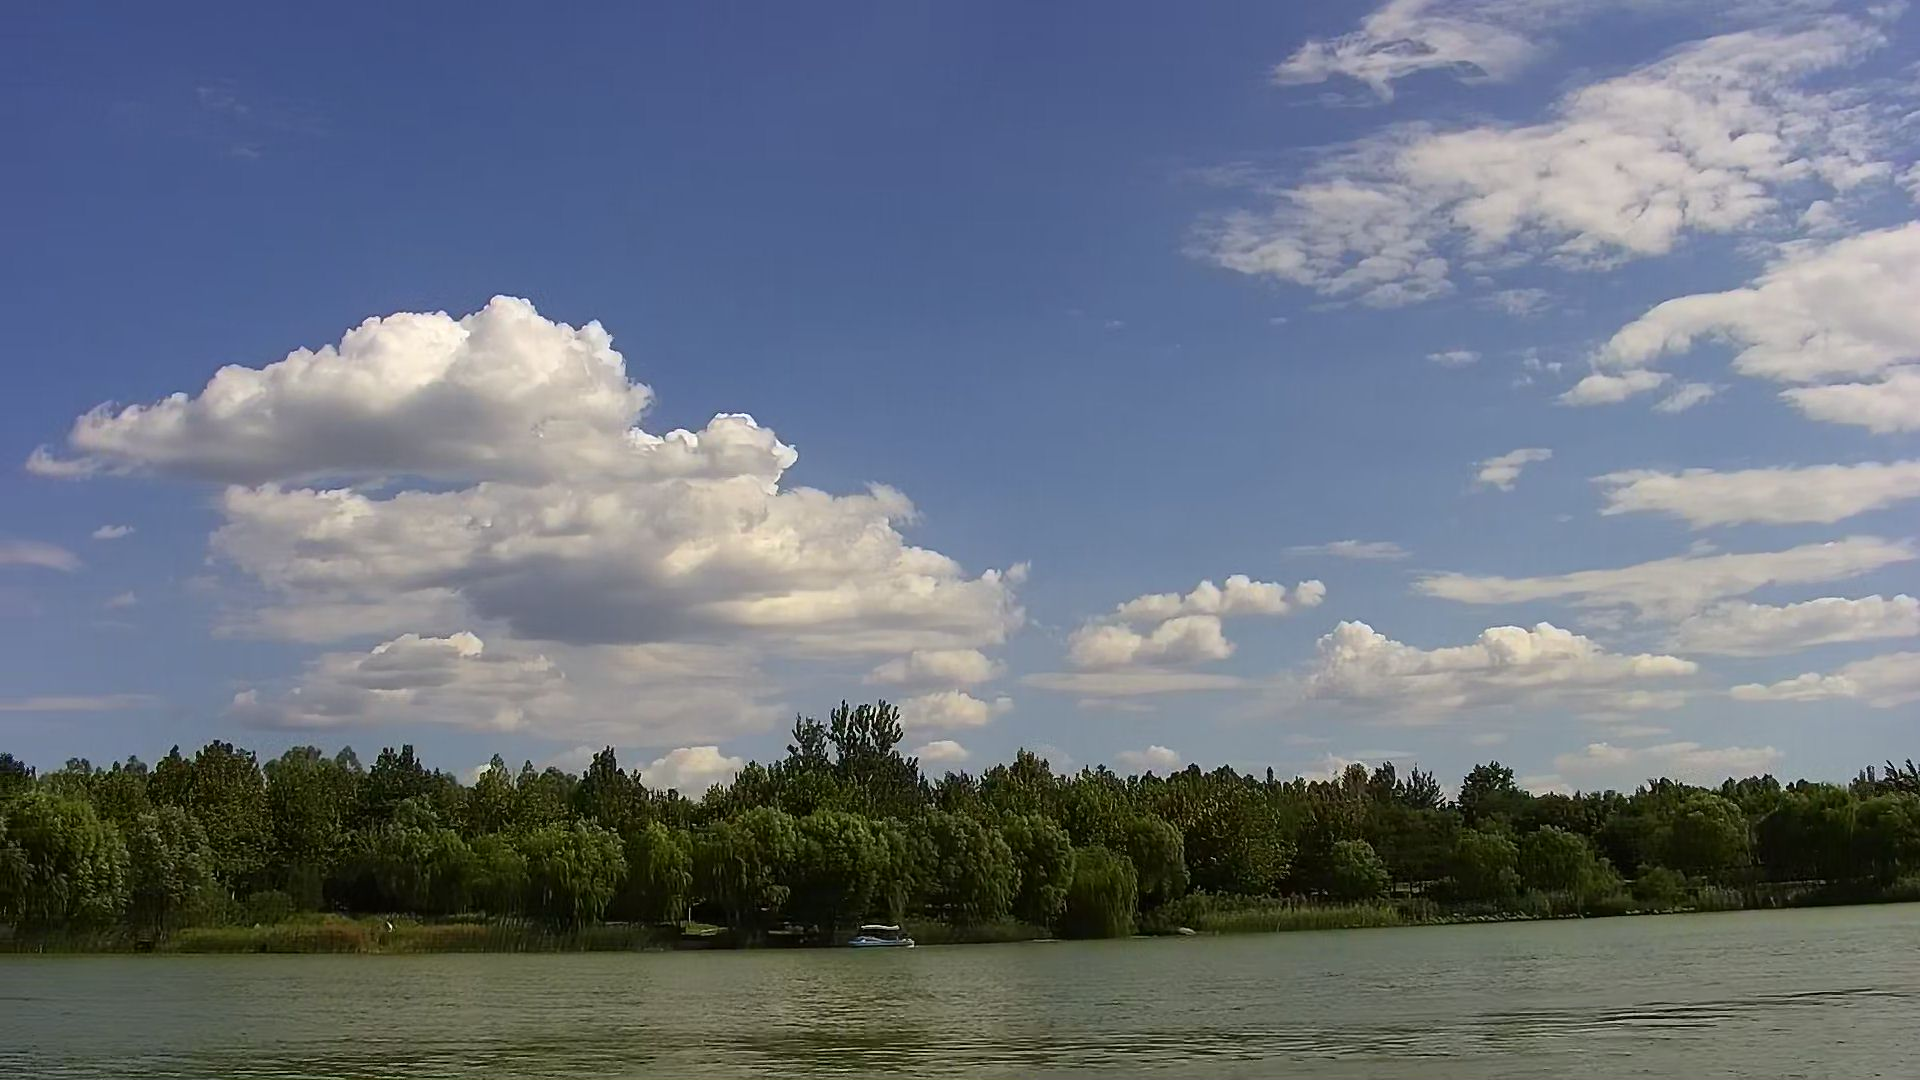boat: (851, 923, 918, 953)
